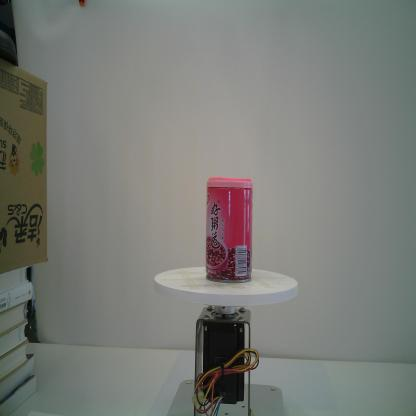Canned Food: (204, 176, 254, 285)
